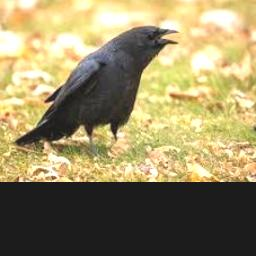Crow: (14, 25, 179, 157)
